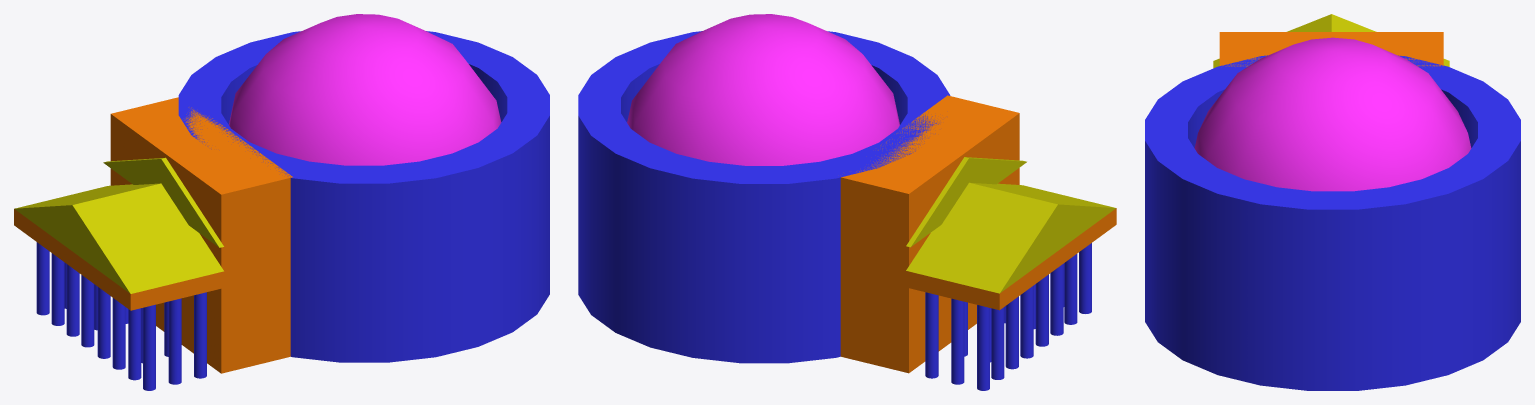
Rendered from Panteao_3D_V03_cm_Collada.dae.
3 views of the same model, side by side, from view 1: azimuth 30°, elevation 25°; view 2: azimuth 150°, elevation 25°; view 3: azimuth 270°, elevation 25° (orthographic).
Parts seen in each view (by area): view 1: group_10 (×2), V-Ray_Sphere_Light, group_5, group_21, group_14, group_20, group_16, group_18, group_8, group_2, group_13, group_1 (+4 smaller); view 2: group_10 (×2), V-Ray_Sphere_Light, group_5, group_21, group_14, group_20, group_15, group_12, group_13, group_1, group_7, group_9 (+4 smaller); view 3: group_10 (×2), V-Ray_Sphere_Light, group_5, group_21.
Part boxes in pixels (x1=…): group_10 (×2): x1=178, y1=31, x2=549, y2=362; V-Ray_Sphere_Light: x1=229, y1=14, x2=501, y2=165; group_5: x1=110, y1=97, x2=292, y2=373; group_21: x1=14, y1=183, x2=223, y2=293; group_14: x1=14, y1=209, x2=224, y2=310; group_20: x1=103, y1=157, x2=223, y2=247; group_16: x1=168, y1=298, x2=181, y2=384; group_18: x1=194, y1=292, x2=206, y2=378; group_8: x1=143, y1=304, x2=155, y2=390; group_2: x1=128, y1=308, x2=141, y2=380; group_13: x1=36, y1=242, x2=49, y2=315; group_1: x1=51, y1=253, x2=64, y2=325; group_10 (×2): x1=578, y1=31, x2=950, y2=363; V-Ray_Sphere_Light: x1=627, y1=14, x2=899, y2=165; group_5: x1=840, y1=95, x2=1019, y2=373; group_21: x1=906, y1=182, x2=1115, y2=293; group_14: x1=906, y1=208, x2=1116, y2=310; group_20: x1=906, y1=157, x2=1026, y2=247; group_15: x1=925, y1=292, x2=938, y2=378; group_12: x1=951, y1=298, x2=964, y2=384; group_13: x1=977, y1=305, x2=989, y2=390; group_1: x1=991, y1=307, x2=1004, y2=379; group_7: x1=1020, y1=285, x2=1033, y2=358; group_9: x1=1005, y1=296, x2=1018, y2=369; group_10 (×2): x1=1145, y1=55, x2=1520, y2=390; V-Ray_Sphere_Light: x1=1194, y1=37, x2=1471, y2=191; group_5: x1=1219, y1=32, x2=1443, y2=66; group_21: x1=1213, y1=14, x2=1449, y2=68.
Bounding box in the file's own units: 287 × 204 × 158.
